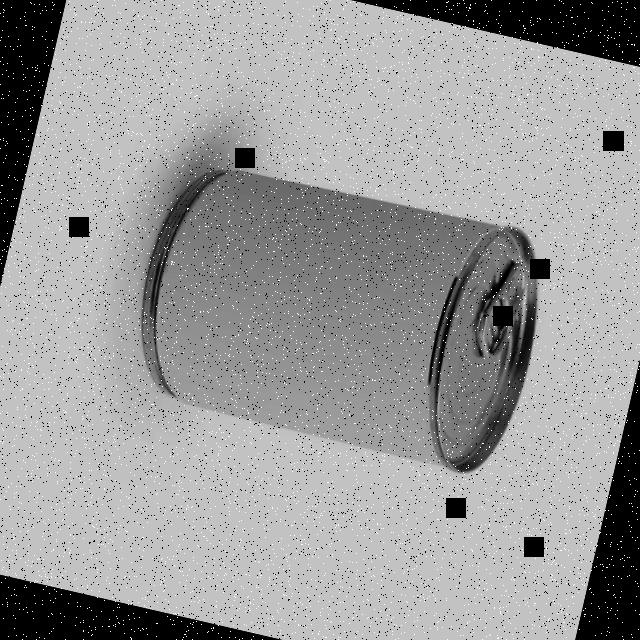can: (122, 149, 558, 480)
